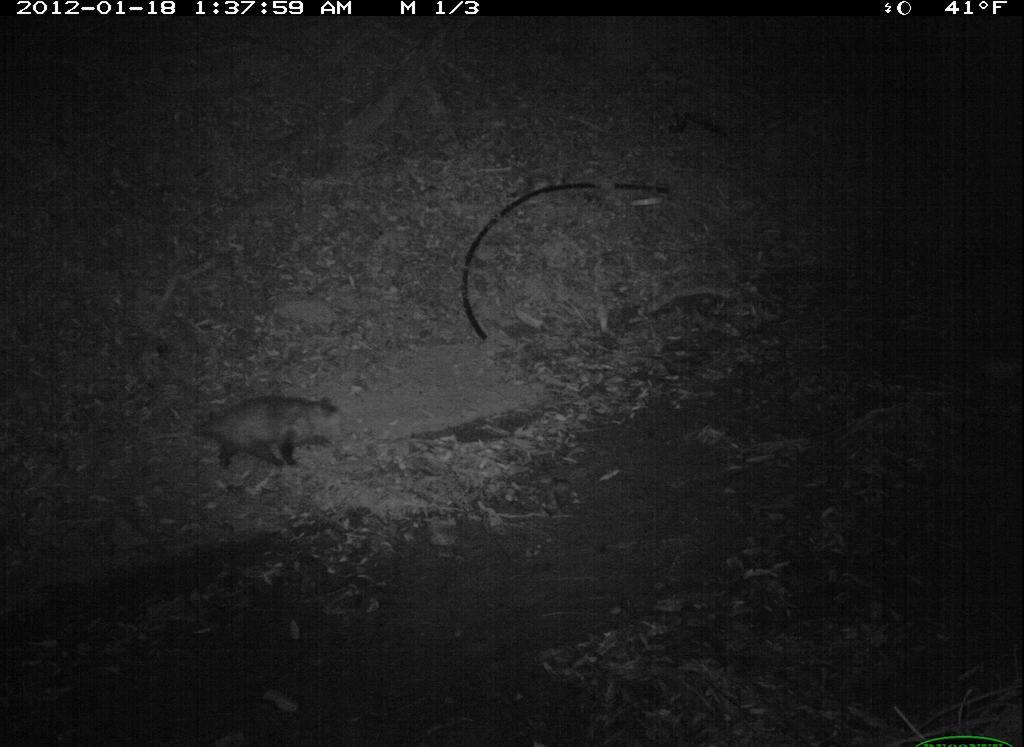opossum: (155, 382, 361, 506)
